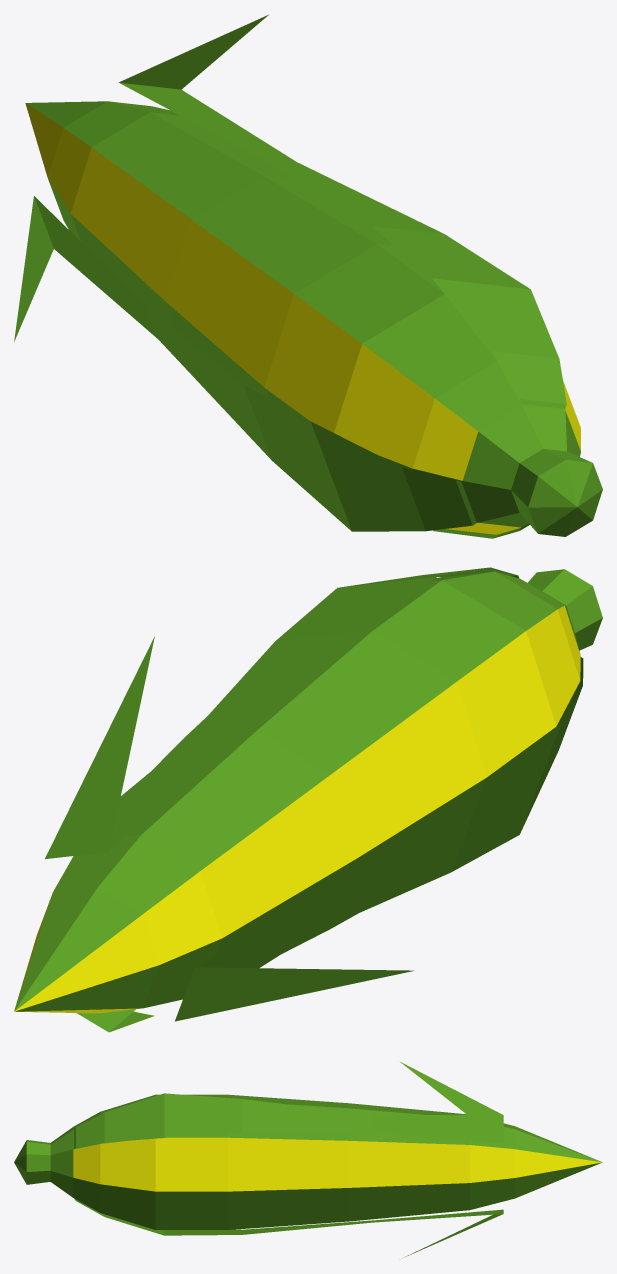
Rendered from Corn Leaf.fbx.
The picture shows the model from 3 angles, top to bottom: view 1: azimuth 30°, elevation 25°; view 2: azimuth 150°, elevation 25°; view 3: azimuth 270°, elevation 25°; orthographic projection. The views are drawn at different scales.
Visible parts, largest first — view 1: Corn Leaf; view 2: Corn Leaf; view 3: Corn Leaf.
Part boxes in pixels (left/top/right/bottom): Corn Leaf: left=14, top=14, right=602, bottom=538; Corn Leaf: left=14, top=567, right=602, bottom=1032; Corn Leaf: left=14, top=1062, right=602, bottom=1258.
Size of the model in its own units: 7.17 by 8.1 by 21.76.
